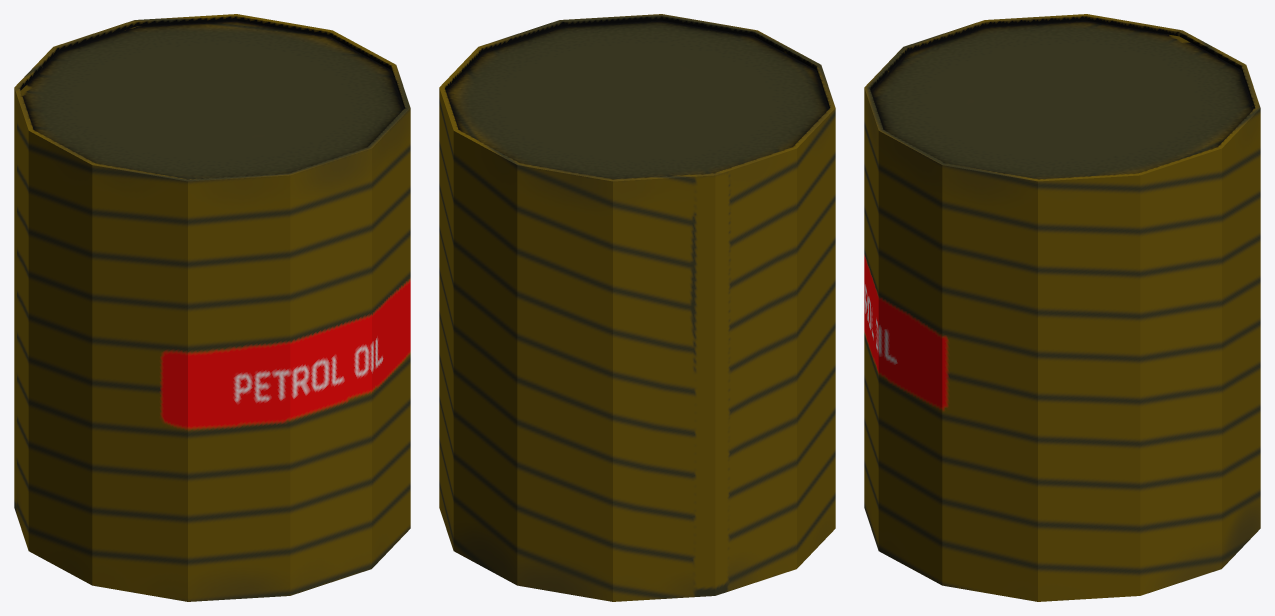
Rendered from petrol tank.fbx.
3 views of the same model, side by side, from view 1: azimuth 30°, elevation 25°; view 2: azimuth 150°, elevation 25°; view 3: azimuth 270°, elevation 25° (orthographic).
Parts seen in each view (by area): view 1: pCylinder1; view 2: pCylinder1; view 3: pCylinder1.
Boxes of the visible parts, left/top/right/bottom form: pCylinder1: left=14, top=14, right=410, bottom=601; pCylinder1: left=439, top=14, right=835, bottom=601; pCylinder1: left=864, top=14, right=1260, bottom=601.
Size of the model in its own units: 148 by 173 by 148.
1 material, 1 textured.
